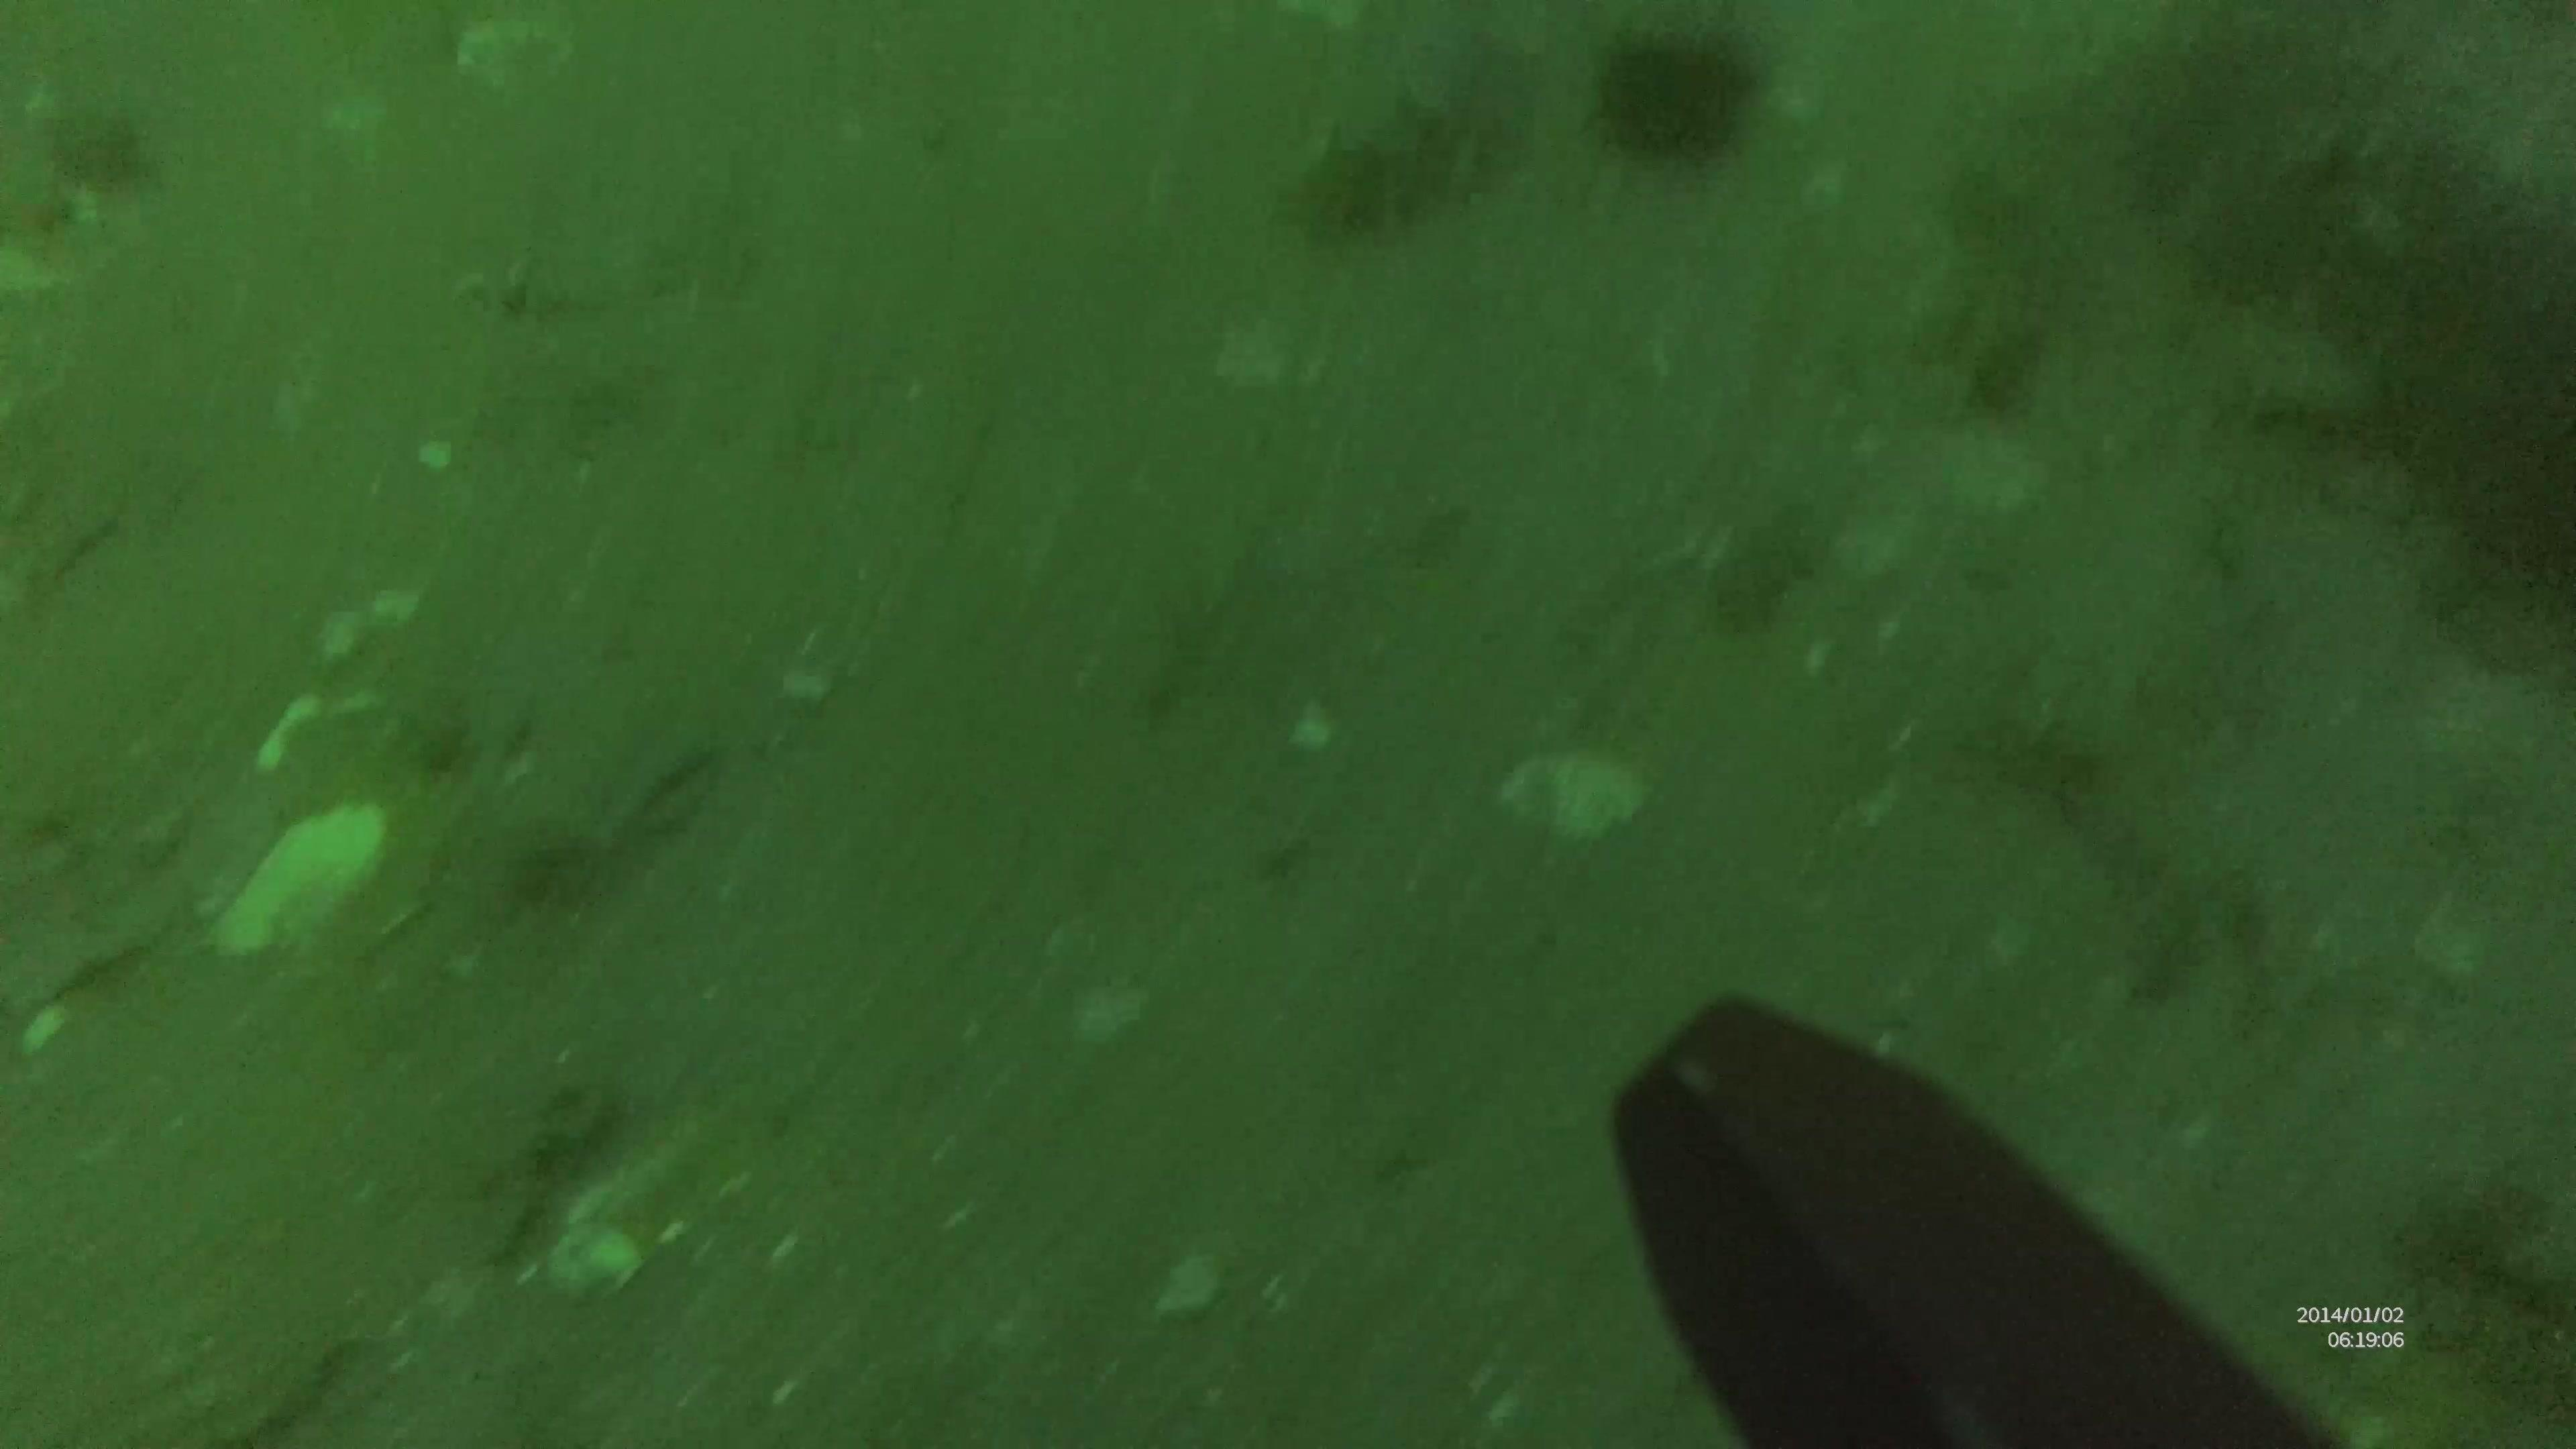echinus: (1591, 11, 1764, 166)
